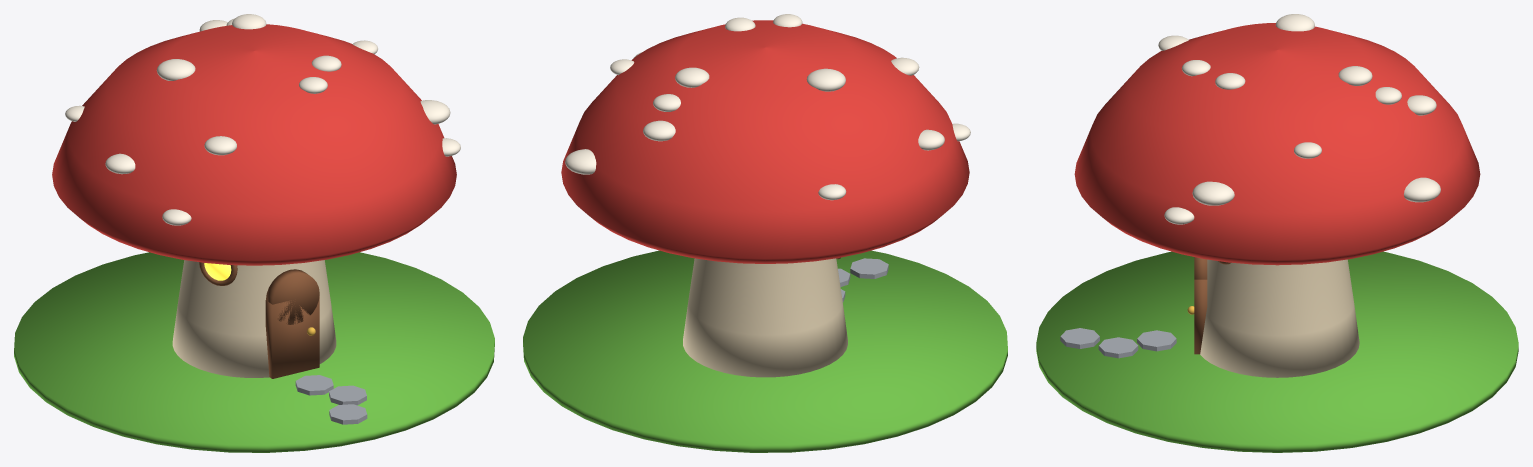
The picture shows the model from 3 angles, left to right: view 1: azimuth 30°, elevation 25°; view 2: azimuth 150°, elevation 25°; view 3: azimuth 270°, elevation 25°; orthographic projection.
Parts seen in each view (by area): view 1: part_1, part_27, part_0, part_17, part_18, part_16, part_26, part_24, part_25, part_12, part_9, part_8; view 2: part_1, part_27, part_0, part_16, part_26, part_11, part_6, part_13; view 3: part_1, part_27, part_0, part_17, part_12, part_11, part_25, part_24, part_26, part_16, part_6, part_13.
Boxes of the visible parts, x1,y1,x2,y2 form: part_1: [52, 24, 456, 265]; part_27: [14, 252, 494, 452]; part_0: [172, 260, 336, 377]; part_17: [265, 296, 319, 378]; part_18: [266, 269, 319, 324]; part_16: [156, 59, 195, 80]; part_26: [329, 404, 367, 424]; part_24: [295, 375, 333, 395]; part_25: [329, 385, 366, 405]; part_12: [420, 100, 450, 124]; part_9: [204, 136, 236, 155]; part_8: [105, 153, 135, 174]; part_1: [561, 20, 969, 263]; part_27: [523, 250, 1007, 452]; part_0: [683, 258, 847, 377]; part_16: [806, 68, 845, 91]; part_26: [850, 258, 888, 278]; part_11: [565, 149, 596, 174]; part_6: [675, 67, 709, 87]; part_13: [643, 120, 675, 141]; part_1: [1074, 23, 1480, 265]; part_27: [1036, 251, 1518, 452]; part_0: [1200, 259, 1359, 377]; part_17: [1194, 279, 1207, 354]; part_12: [1192, 181, 1234, 205]; part_11: [1403, 177, 1440, 202]; part_25: [1098, 337, 1138, 358]; part_24: [1137, 330, 1176, 351]; part_26: [1060, 328, 1099, 348]; part_16: [1275, 14, 1314, 31]; part_6: [1338, 66, 1372, 85]; part_13: [1407, 95, 1436, 115].
Bounding box in the file's own units: 4.4 × 3.03 × 4.4.
